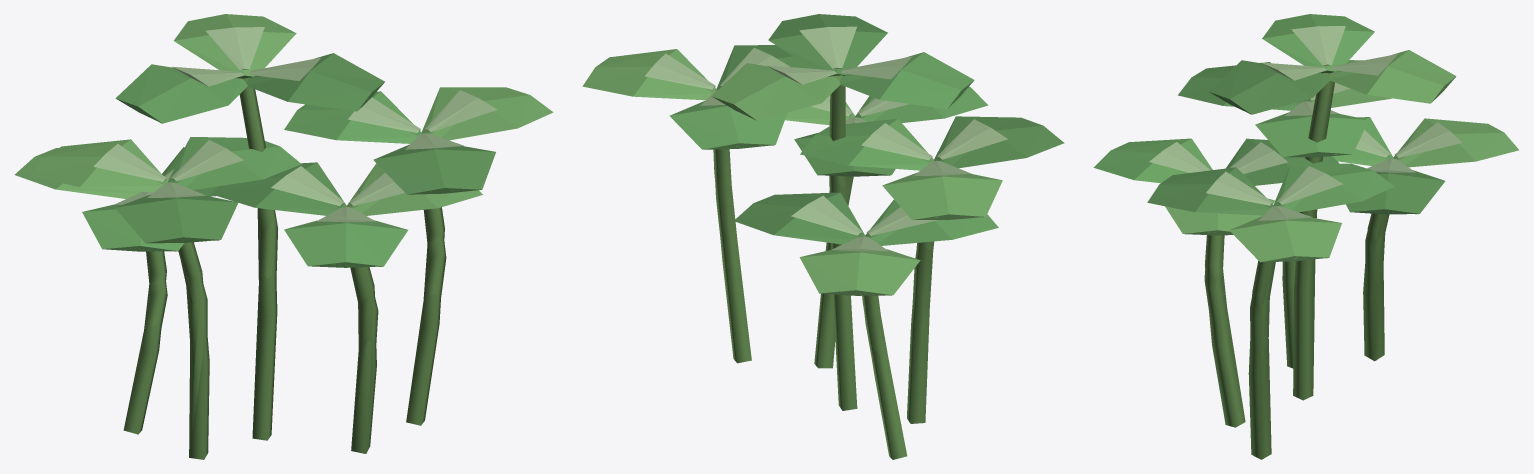
The model's file is clover_a.glb.
3 renders of one model, left to right at view 1: azimuth 30°, elevation 25°; view 2: azimuth 150°, elevation 25°; view 3: azimuth 270°, elevation 25°, orthographic. The views are drawn at different scales.
Visible parts, largest first — view 1: body_nl, stem, body__far; view 2: body_nl, body__far, stem; view 3: body_nl, stem, body__far.
Boxes of the visible parts, x1=… form: body_nl: x1=14, y1=14, x2=553, y2=267; stem: x1=123, y1=82, x2=444, y2=459; body__far: x1=124, y1=77, x2=480, y2=457; body_nl: x1=582, y1=14, x2=1064, y2=295; body__far: x1=713, y1=75, x2=984, y2=459; stem: x1=713, y1=84, x2=933, y2=434; body_nl: x1=1093, y1=14, x2=1518, y2=262; stem: x1=1205, y1=80, x2=1385, y2=459; body__far: x1=1204, y1=73, x2=1449, y2=459.
Size of the model in its own units: 5.23 by 4.11 by 4.62.
